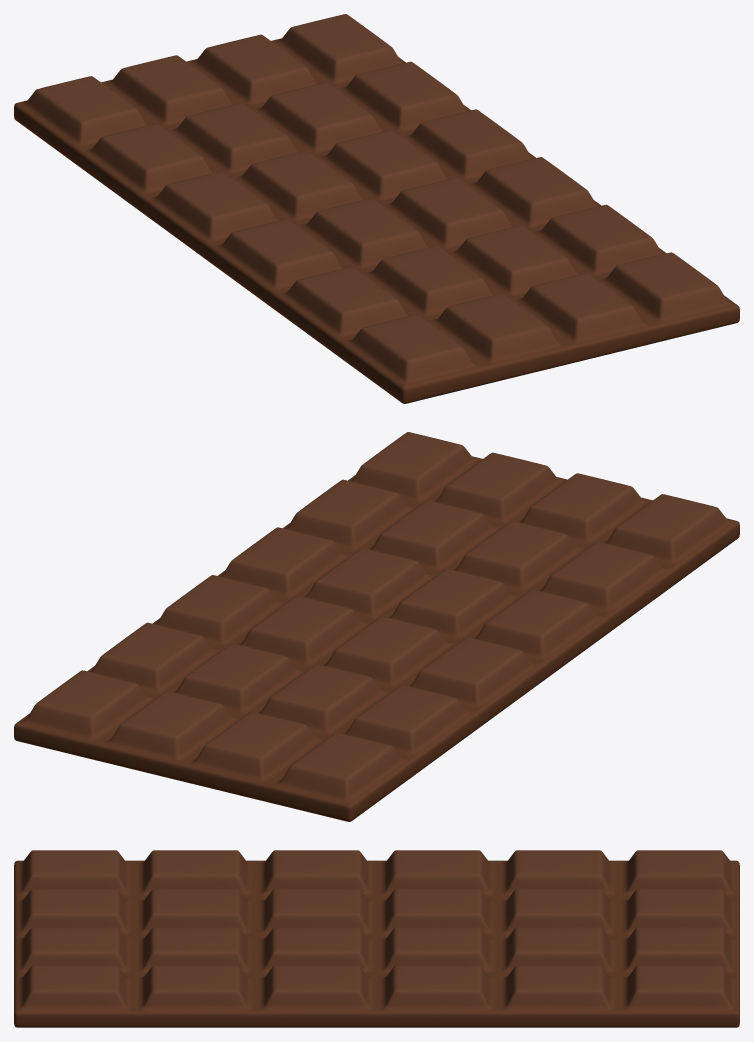
File: Chocolate Bar.fbx
3 views of the same model, one above another, from view 1: azimuth 30°, elevation 25°; view 2: azimuth 150°, elevation 25°; view 3: azimuth 270°, elevation 25° (orthographic). The views are drawn at different scales.
Visible parts, largest first — view 1: Chocolate Bar; view 2: Chocolate Bar; view 3: Chocolate Bar.
Part boxes in pixels (box(x1,y1,x2,y2)): Chocolate Bar: box(14, 14, 739, 403); Chocolate Bar: box(14, 432, 739, 821); Chocolate Bar: box(14, 850, 739, 1027).
Bounding box in the file's own units: 298 × 29.8 × 597.
Materials: 1 (1 with a texture image).
